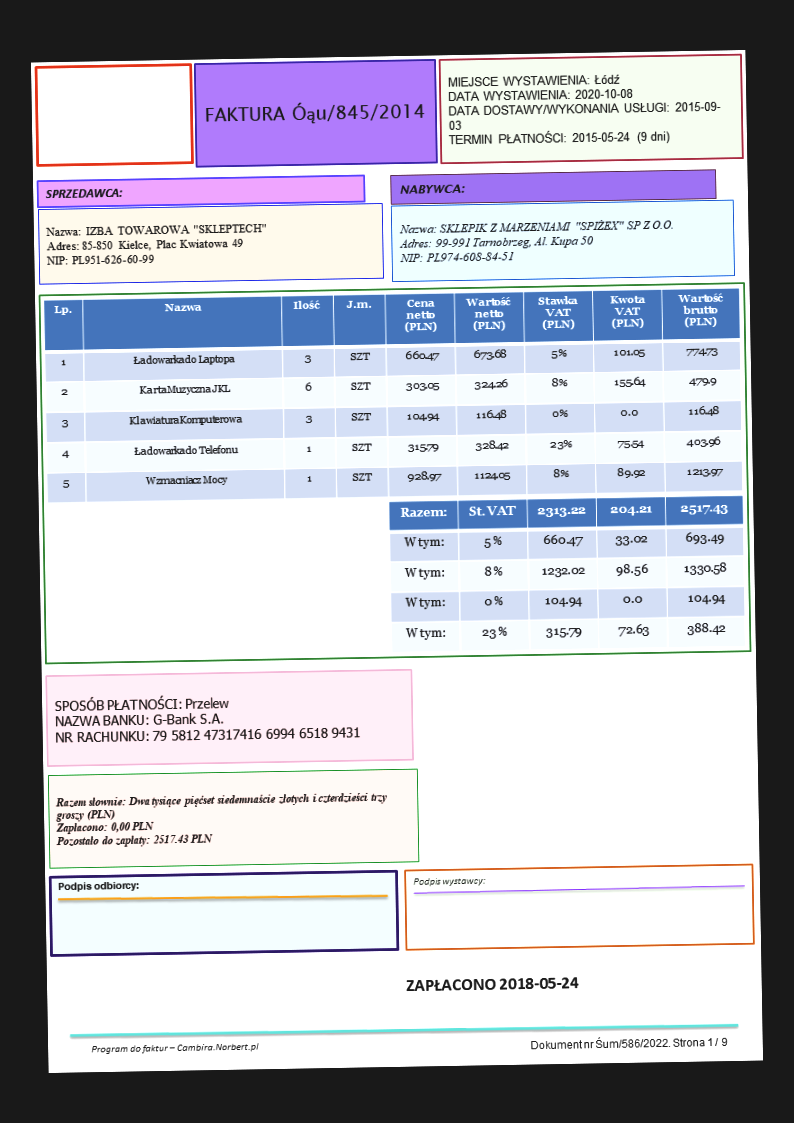Table: (42, 285, 741, 502), (388, 493, 747, 655)
TextBox: (444, 67, 724, 150), (53, 787, 391, 849), (52, 689, 364, 749), (397, 215, 676, 264), (43, 218, 269, 270), (202, 97, 426, 129), (404, 972, 582, 996), (527, 1032, 728, 1052), (89, 1039, 260, 1056), (55, 877, 143, 895), (44, 184, 124, 203), (411, 870, 486, 890), (396, 179, 467, 198)
